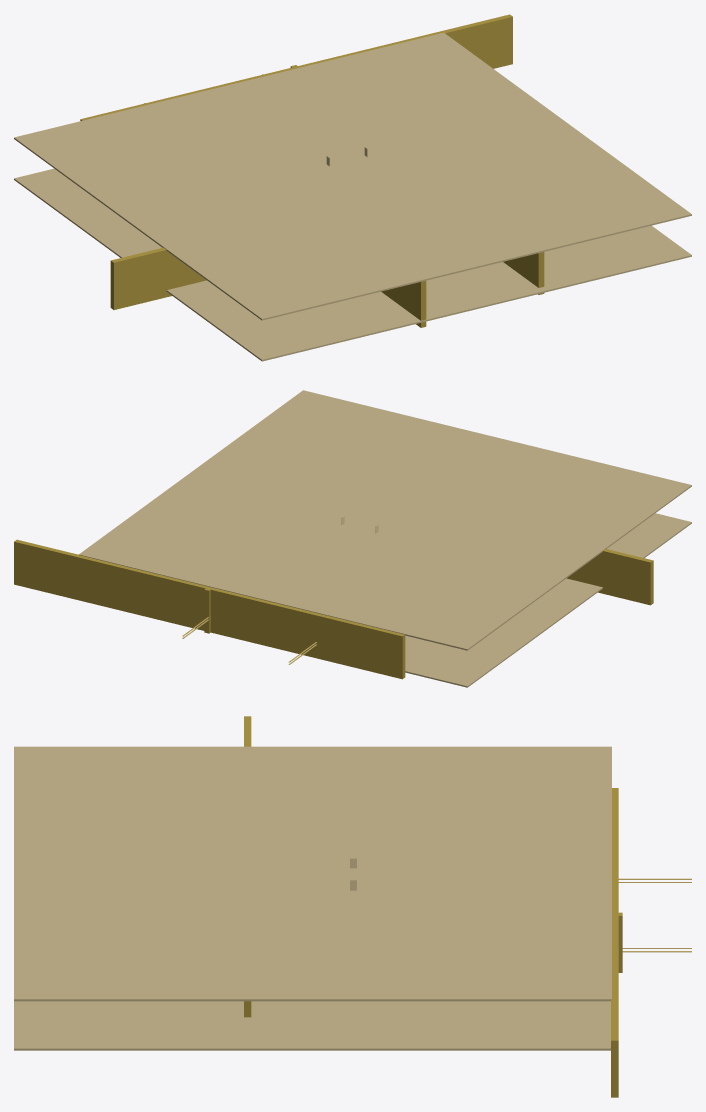
File: Range.fbx
The picture shows the model from 3 angles, top to bottom: view 1: azimuth 30°, elevation 25°; view 2: azimuth 150°, elevation 25°; view 3: azimuth 270°, elevation 25°; orthographic projection. The views are drawn at different scales.
Parts seen in each view (by area): view 1: Object_10, Object_8; view 2: Object_10, Object_8; view 3: Object_10, Object_8.
Boxes of the visible parts, x1,y1,x2,y2 form: Object_10: (14,32,691,361); Object_8: (80,14,544,327); Object_10: (78,390,691,687); Object_8: (14,539,653,679); Object_10: (14,746,611,1050); Object_8: (244,716,622,1097).
Bounding box in the file's own units: 6419 × 814 × 5671.
